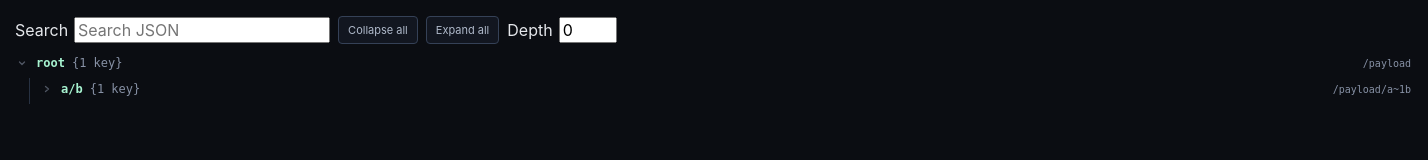
Scenario: RawJsonTree › accepts a supplied node and encodes source JSON pointer tokens
Expected: the list item "a/b {1 key} /payload/a~1b" is shown, [40,82,1411,96]
Click the button named "Expand /payload/a~1b": (47, 89) [40,82,54,96]
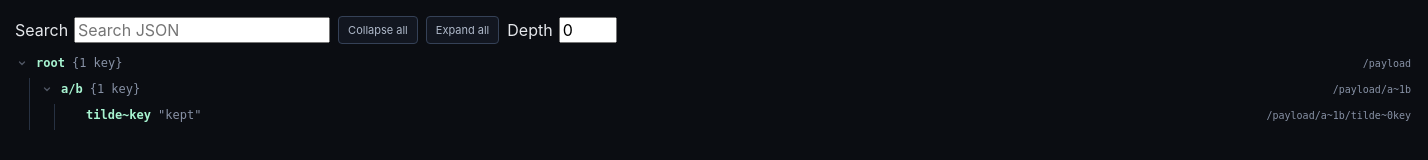
Expected: the list item "tilde~key \"kept\" /payload/a~1b/tilde~0key" is shown, [86,108,1411,122]
